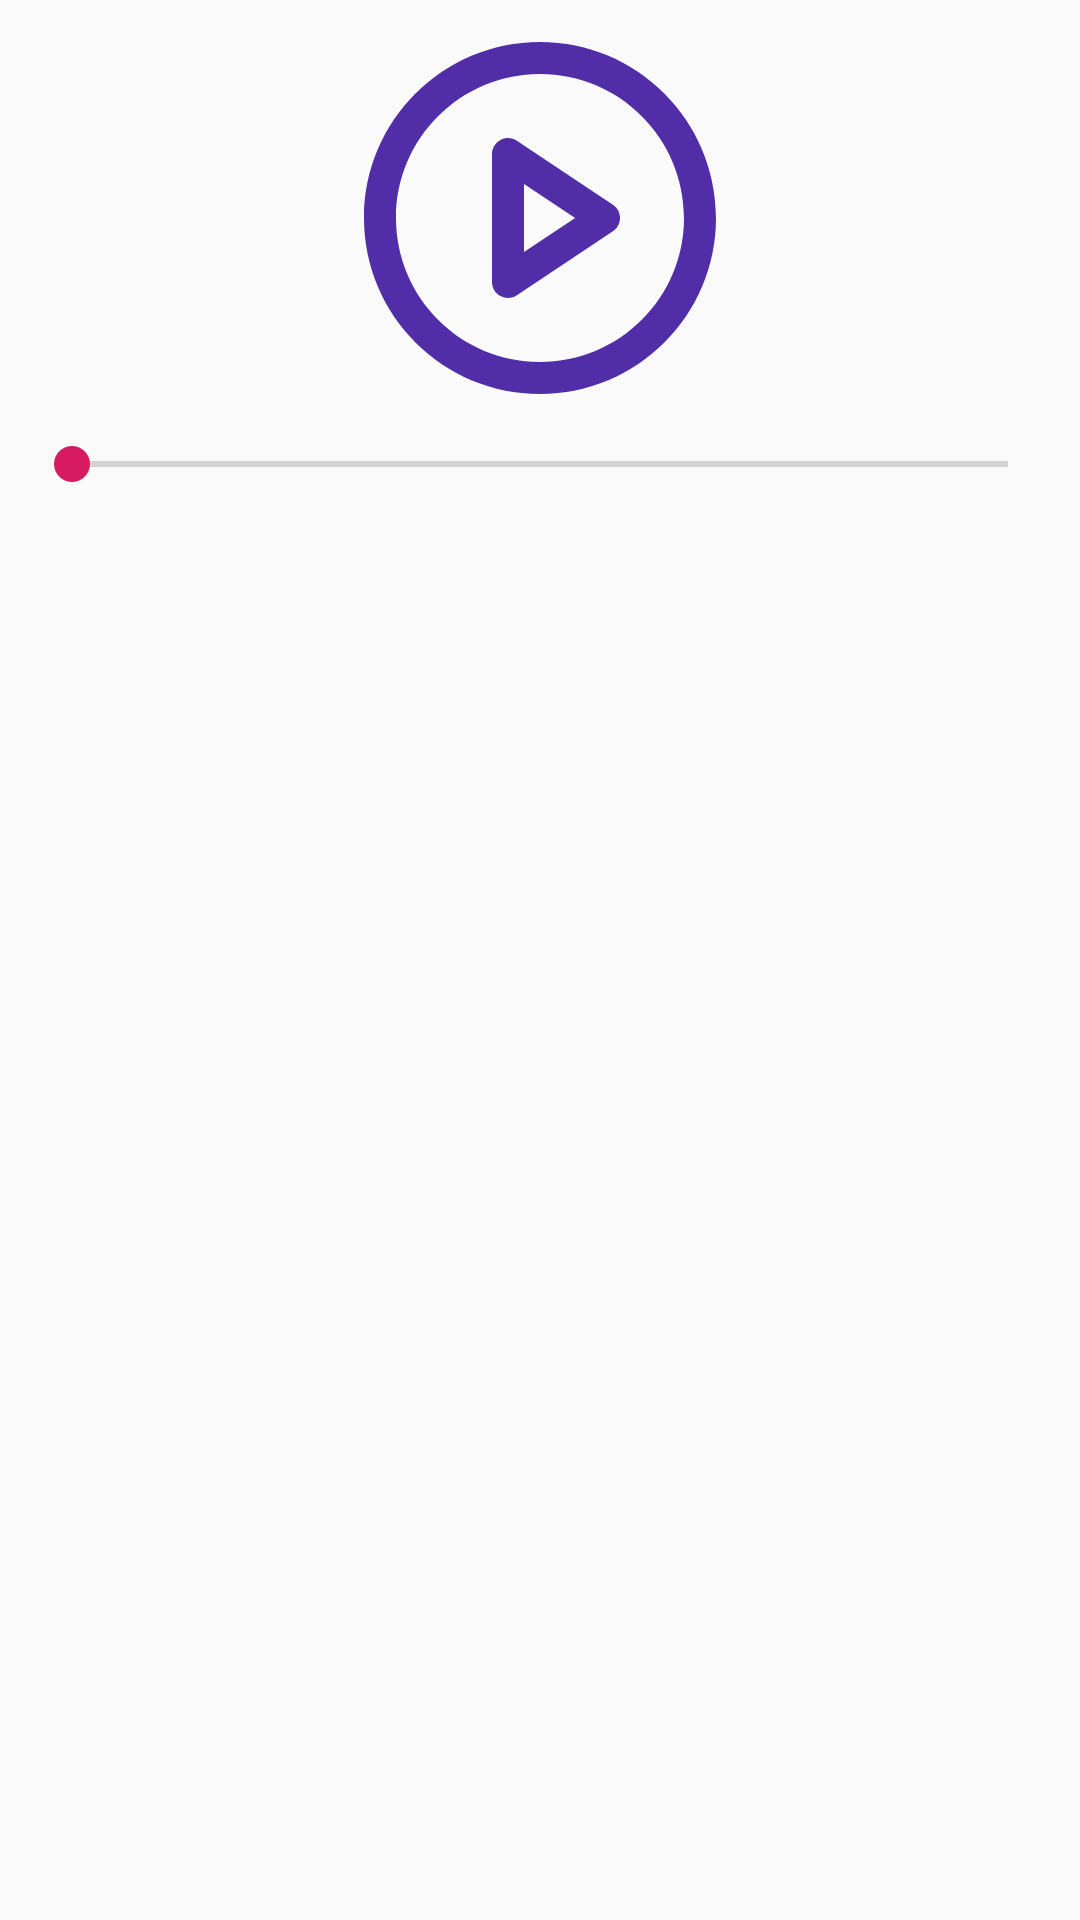

Named icons in this screenshot (1080x1920) and their bounding boxes, [x1, y1, x2, y2]:
play circle: [364, 42, 716, 394]
